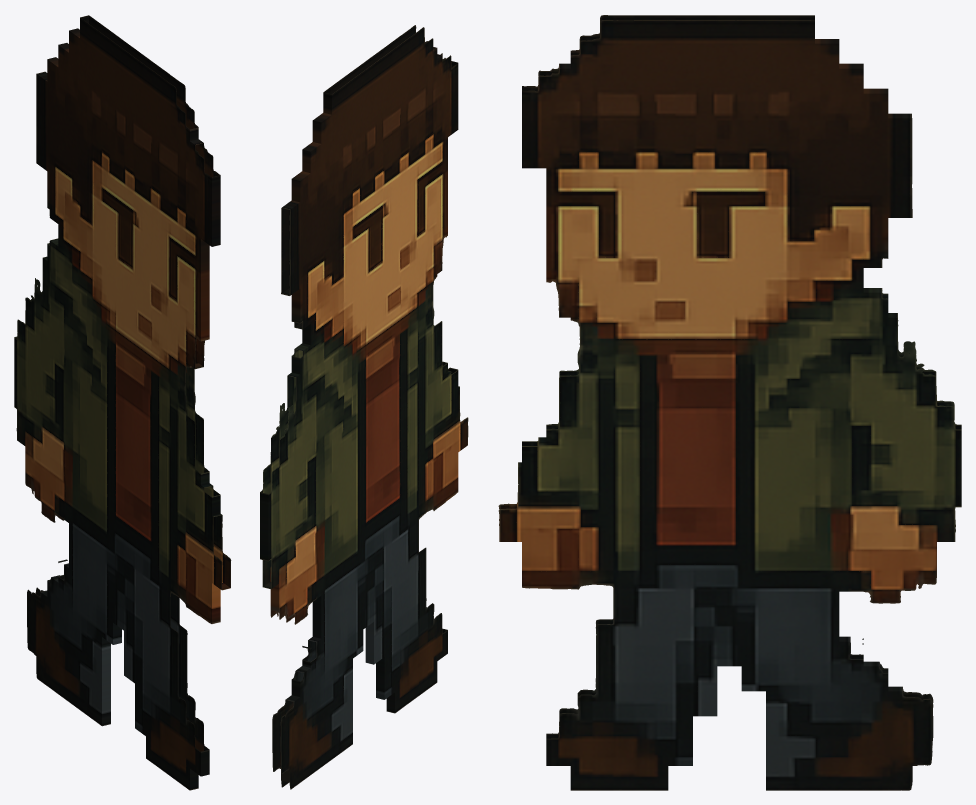
The picture shows the model from 3 angles, left to right: view 1: azimuth 30°, elevation 25°; view 2: azimuth 150°, elevation 25°; view 3: azimuth 270°, elevation 25°; orthographic projection. The views are drawn at different scales.
Visible parts, largest first — view 1: ChatGPT Image 12_06_2025, 19_22_11.005; view 2: ChatGPT Image 12_06_2025, 19_22_11.005; view 3: ChatGPT Image 12_06_2025, 19_22_11.005.
Boxes of the visible parts, box(x1,y1,x2,y2) form: ChatGPT Image 12_06_2025, 19_22_11.005: box(14, 15, 231, 790); ChatGPT Image 12_06_2025, 19_22_11.005: box(260, 25, 468, 789); ChatGPT Image 12_06_2025, 19_22_11.005: box(498, 15, 961, 790).
Bounding box in the file's own units: 1 × 74.92 × 40.8.
1 material, 1 textured.
